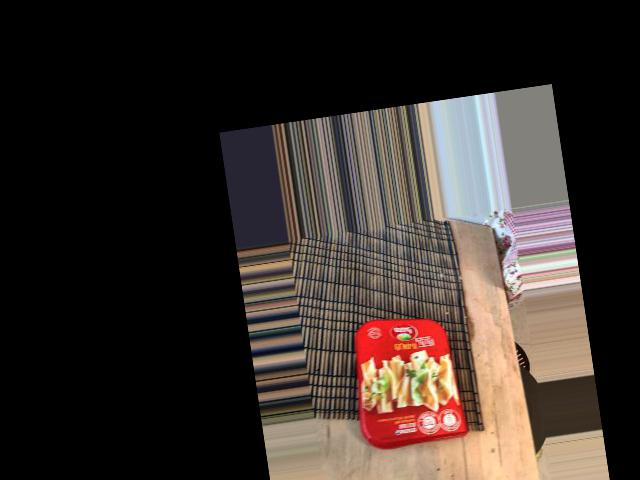cheese: (296, 276, 440, 381)
